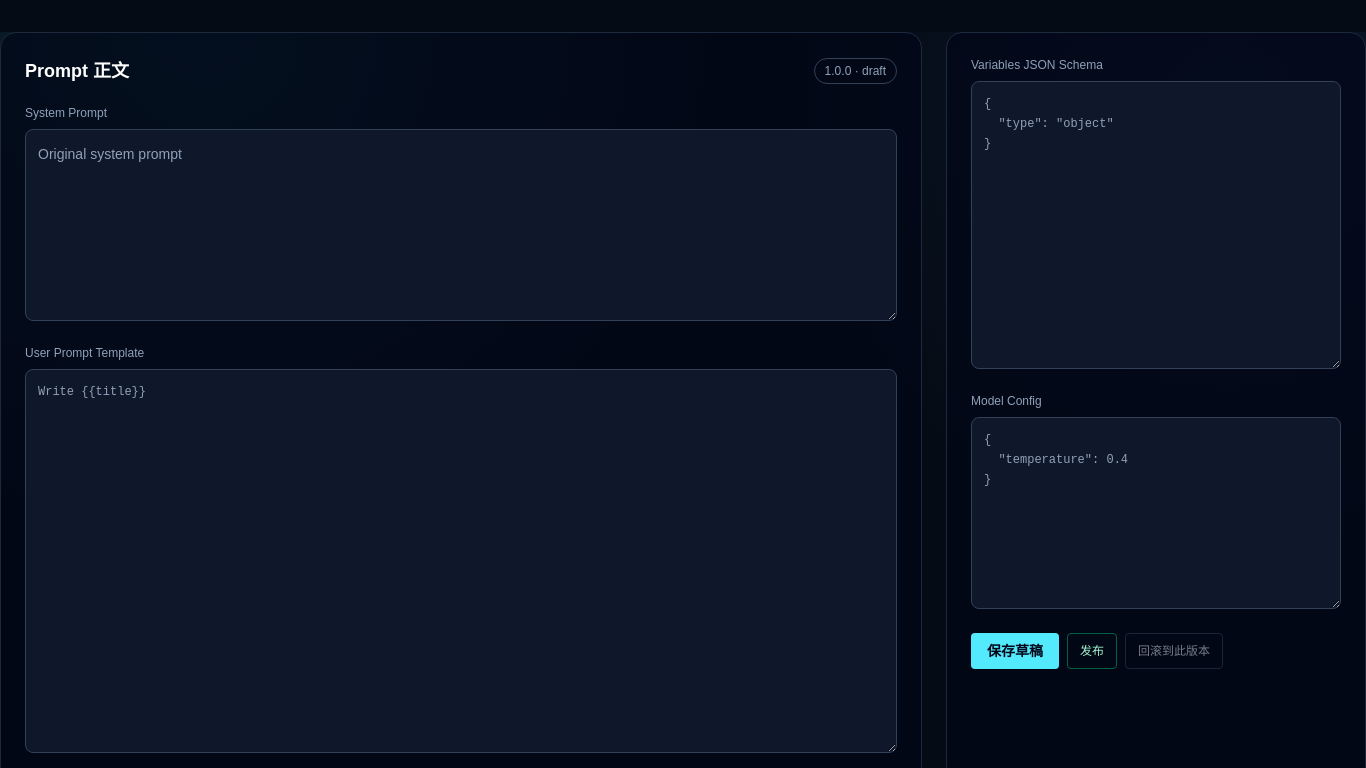
it: 登录与编辑器交互 › Prompt 编辑器保存版本化正文和模型配置
The image size is (1366, 768).
Replace the text in the text box labelled "System Prompt" with "Updated system prompt" at (461, 225), box [25,129,897,321]
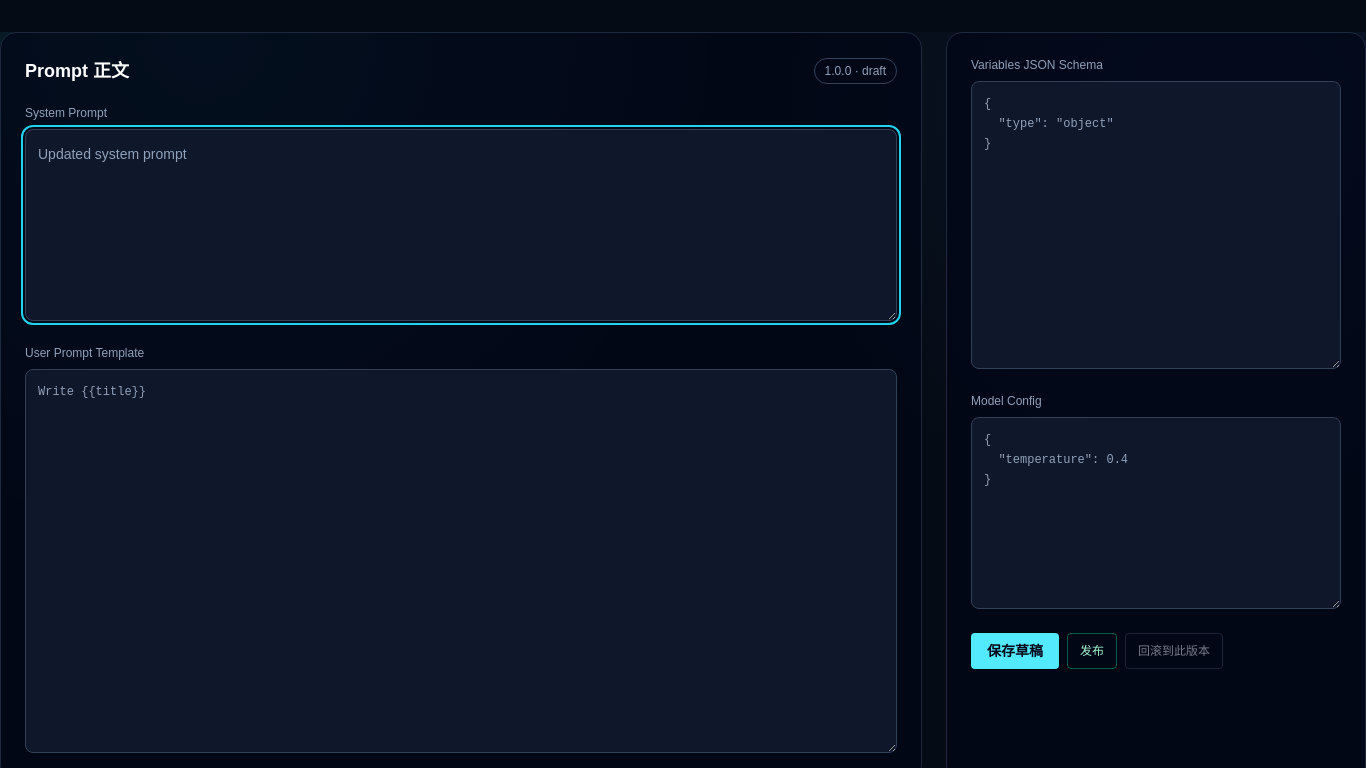
Click the button "保存草稿" at (1015, 651), box [971,633,1059,669]
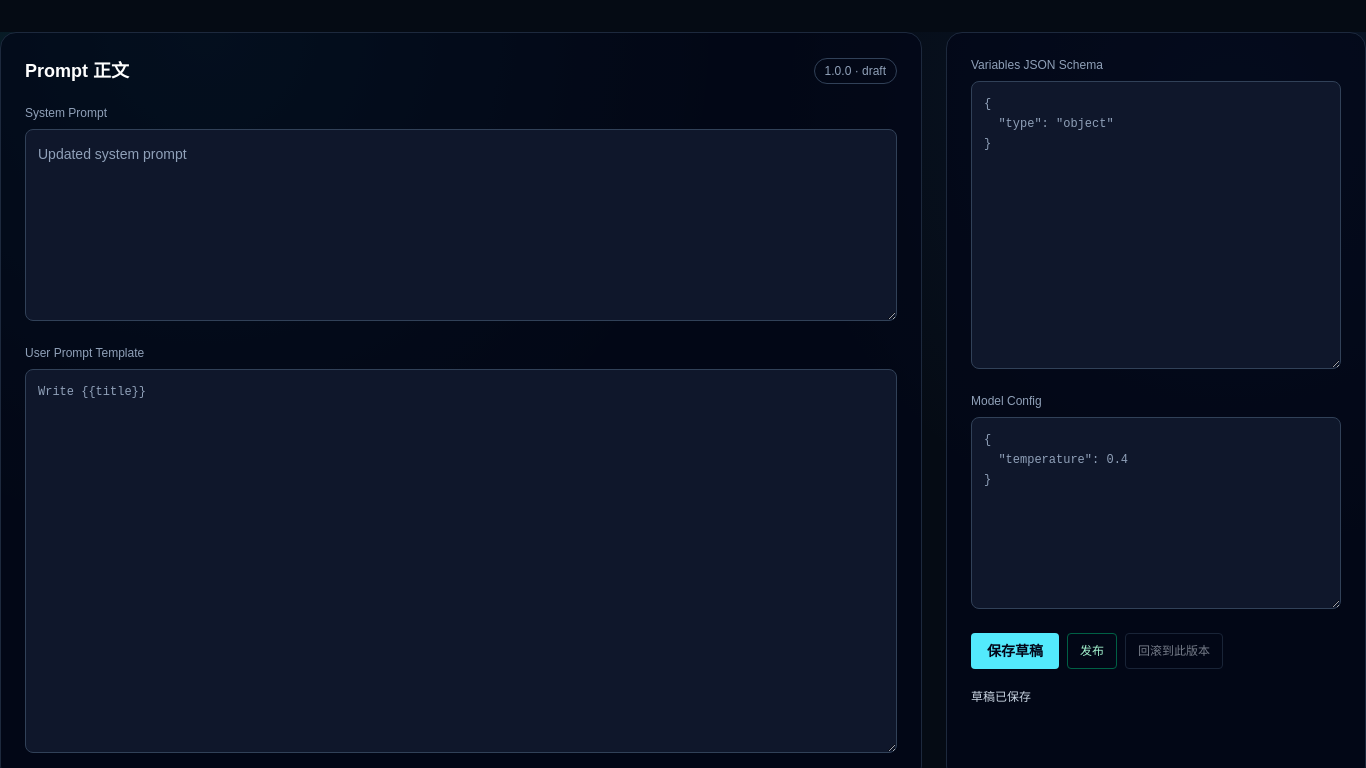
Expected: the text "草稿已保存" is shown, [971,690,1031,704]
